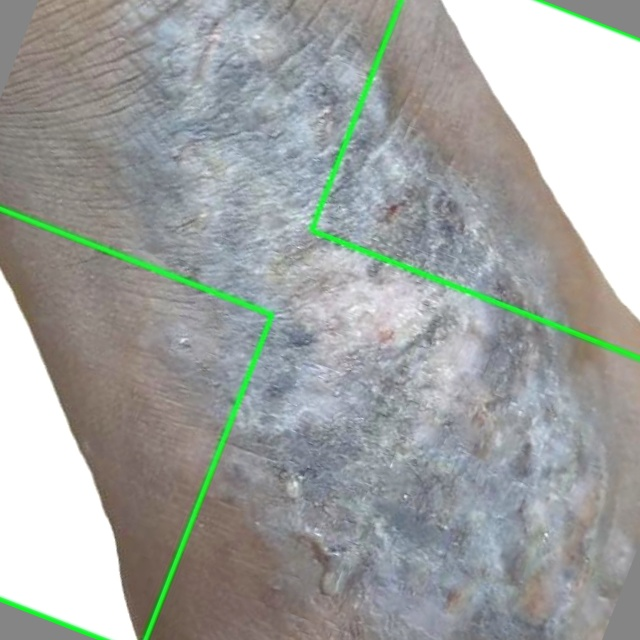Contact Dermatitis: (311, 0, 639, 358), (0, 210, 271, 639)
